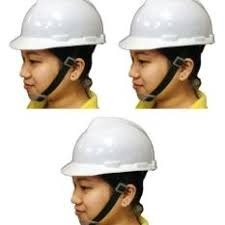helmet: (60, 117, 158, 176), (9, 1, 107, 50), (119, 1, 215, 50)
person with partial safety: (9, 1, 108, 110), (119, 1, 217, 109), (60, 118, 158, 224)
